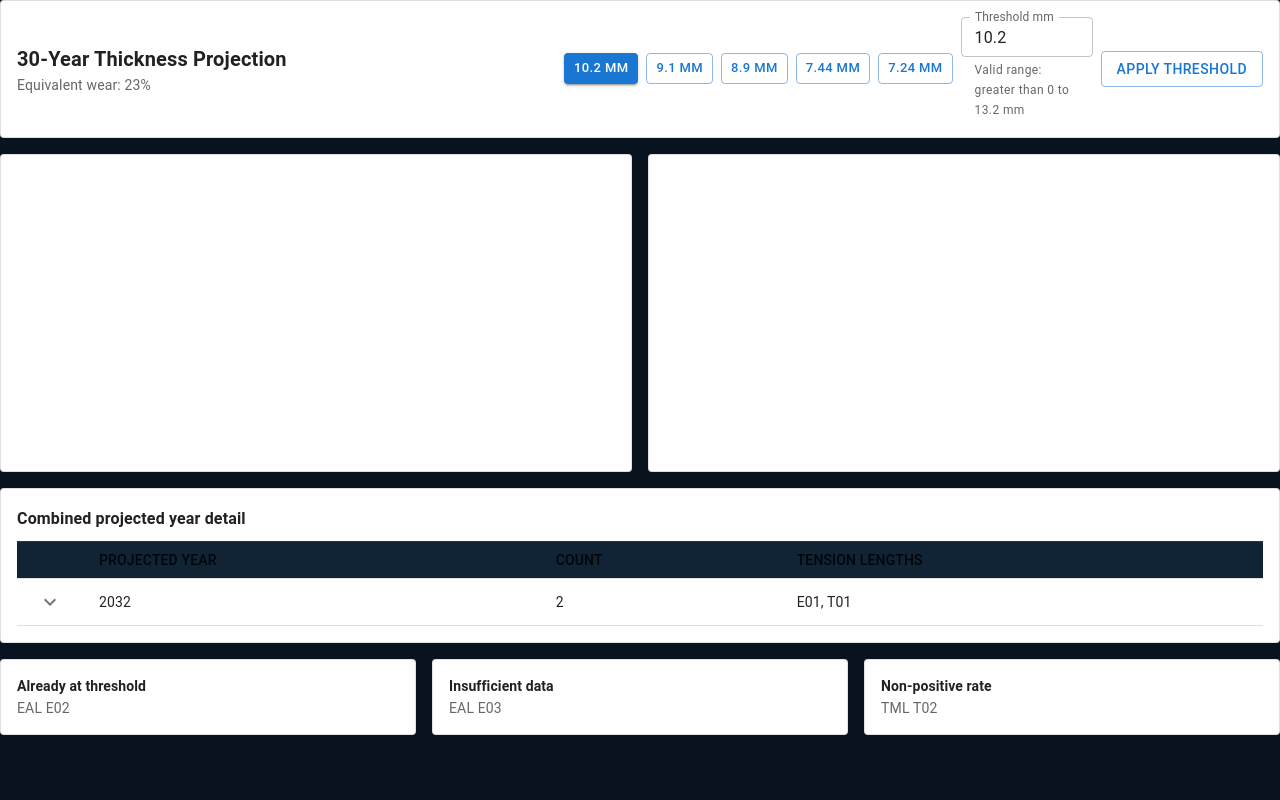
Test: WearProjectionPanel › rejects invalid custom threshold -1 without changing the active request
The image size is (1280, 800).
Replace the text in the number field labelled "Threshold mm" with "-1": [1027, 37] box [961,17,1093,57]
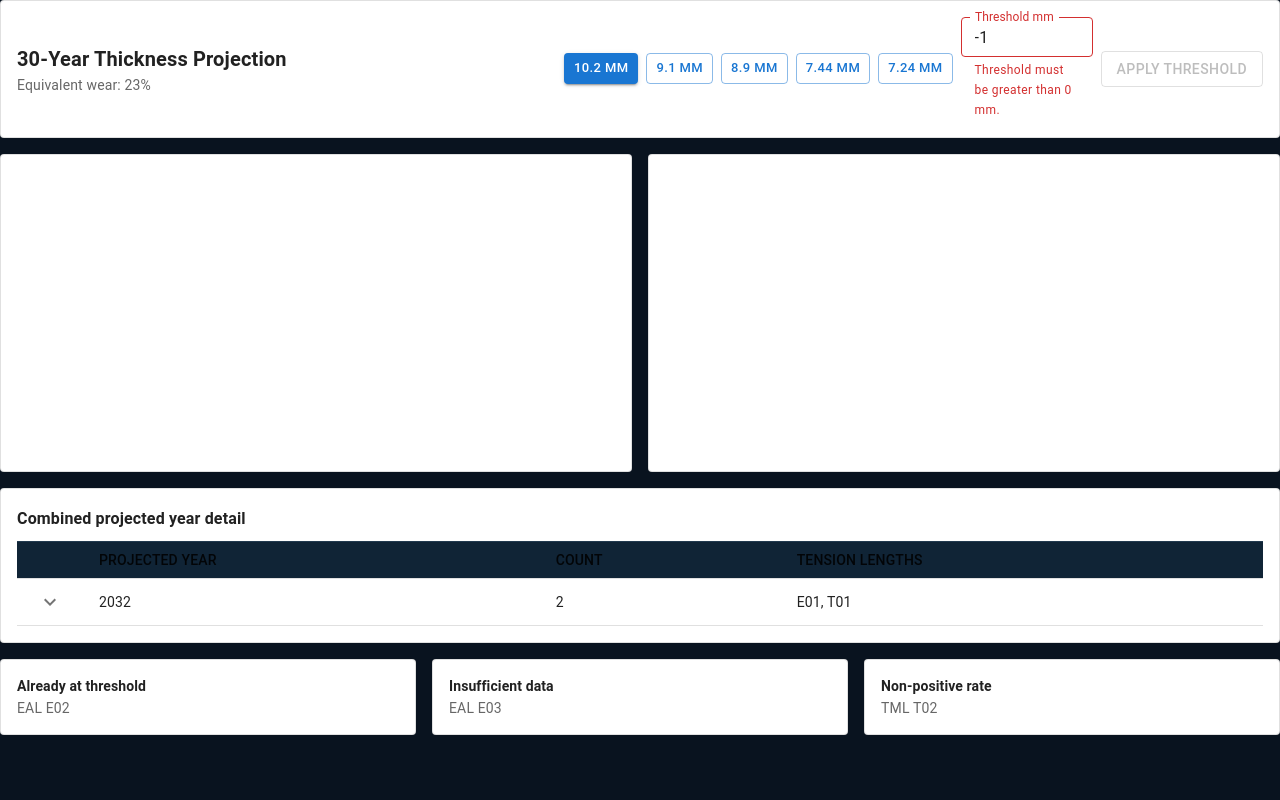
Check: the text "Threshold must be greater than 0 mm." is shown, box [975,61,1079,121]
Check: the button "Apply threshold" is disabled, box [1101,51,1263,87]
